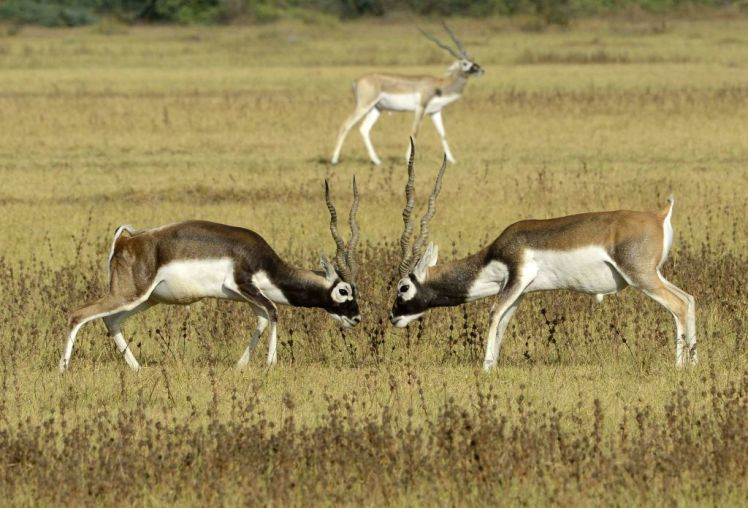Blackbuck: (384, 141, 704, 373), (47, 177, 367, 374), (322, 24, 488, 163)
